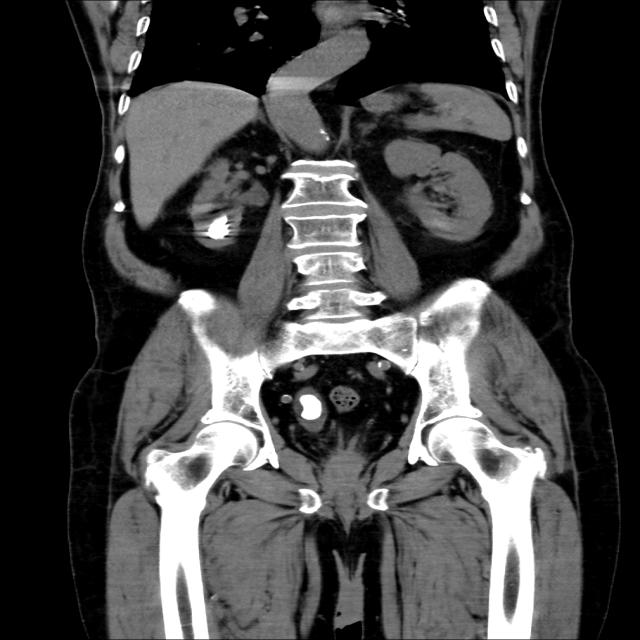kidneystone: (207, 215, 229, 239)
